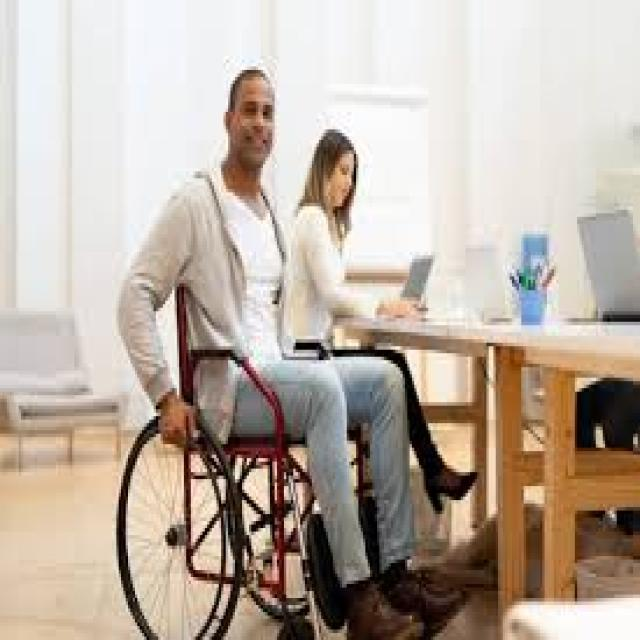wheelchairs: (107, 263, 472, 636)
